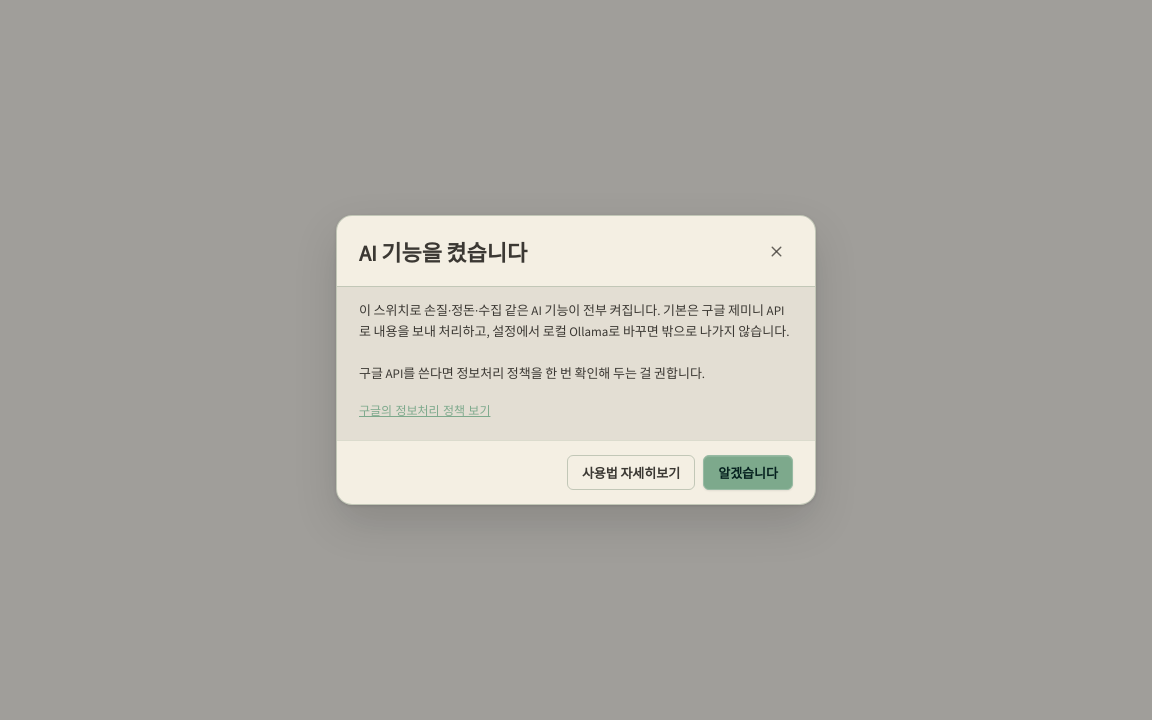
Test: FeatureBriefModal › 온보딩 모드: [알겠습니다] + [사용법 자세히보기] + 외부 링크를 보여준다
The image size is (1152, 720).
Expected: the element with test id "feature-brief-modal-ai_master" is shown, [359, 301, 793, 418]
Expected: the button with test id "feature-brief-ack" is shown, [703, 455, 793, 490]
Step 1. Click the button with test id "feature-brief-learn-more" → (631, 472), box [567, 455, 695, 490]
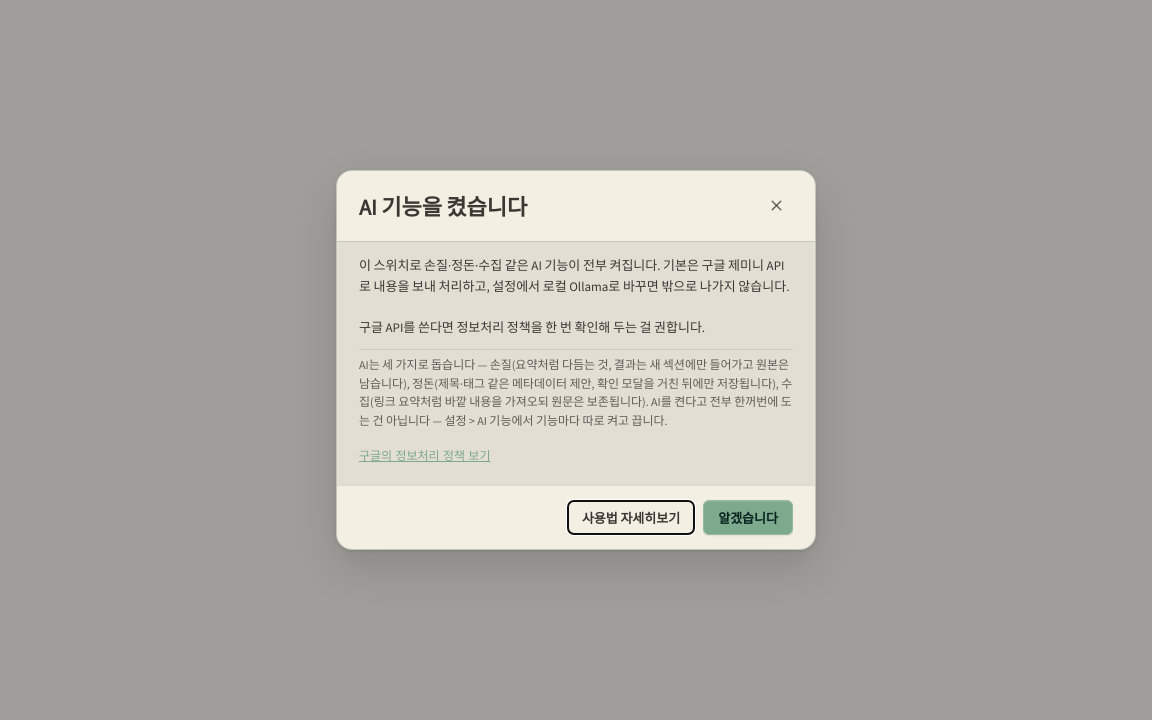
Now the text with test id "feature-brief-learn-more-body" is shown, box [359, 349, 793, 430]
